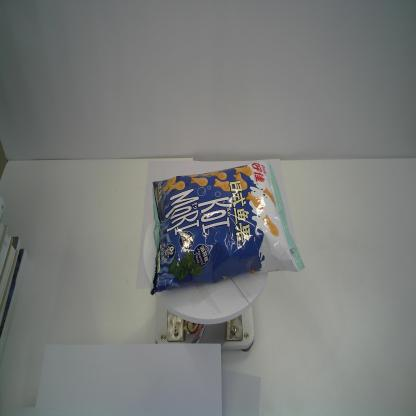Puffed Food: (150, 160, 305, 296)
